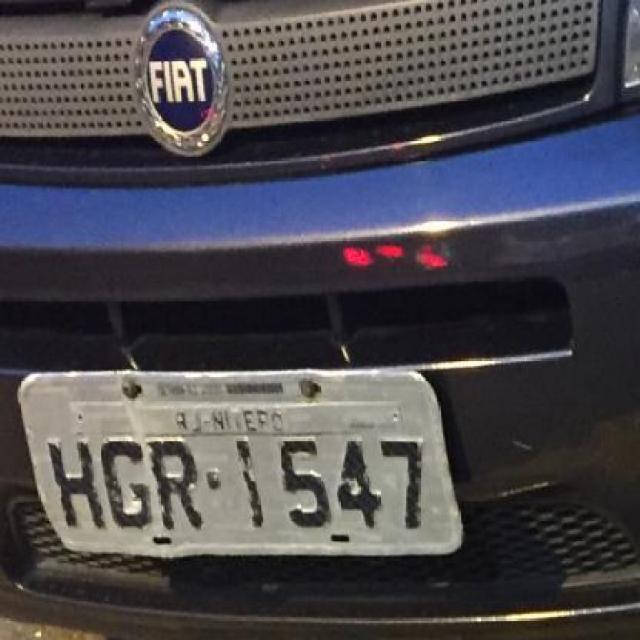old_plate: (11, 364, 472, 565)
